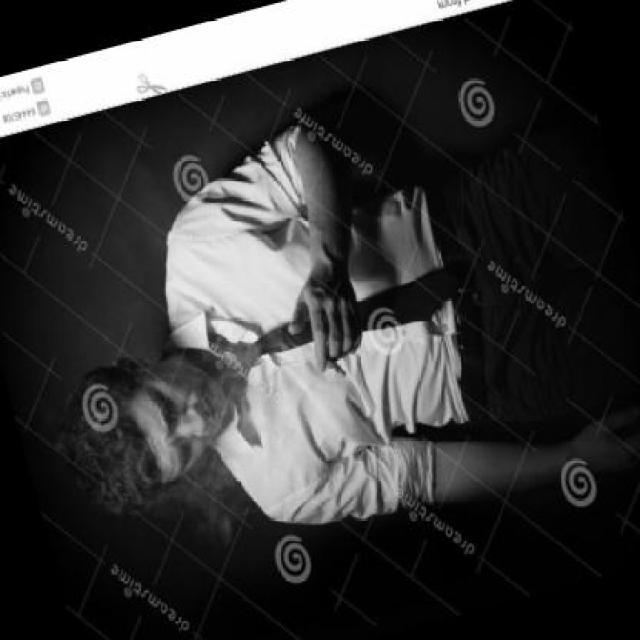cigarette: (324, 352, 347, 378)
